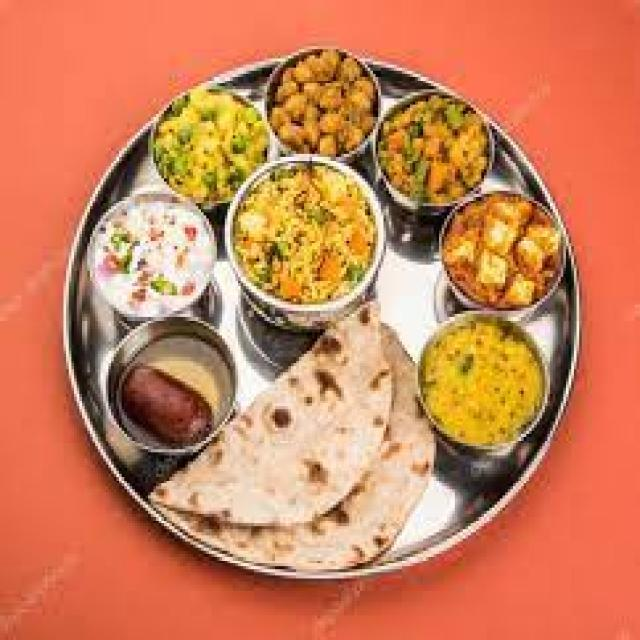dal: (420, 316, 555, 453)
rice: (230, 160, 379, 312)
roti: (212, 309, 447, 563)
sweet: (85, 197, 218, 319), (114, 330, 234, 449)
